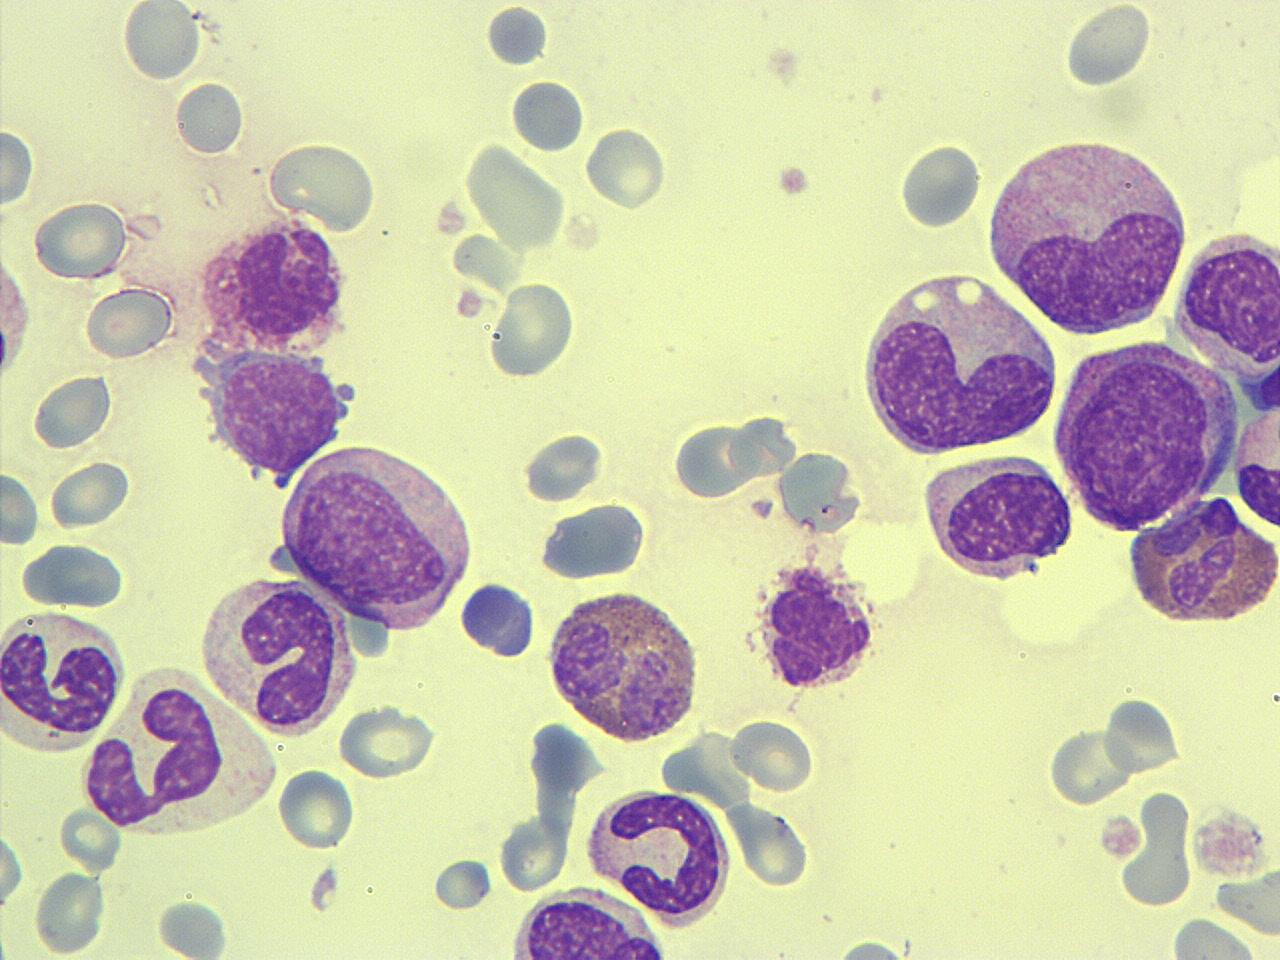Platelets: (458, 578, 541, 659)
RBC: (0, 0, 577, 342), (462, 136, 571, 254), (264, 135, 378, 231), (486, 279, 578, 382), (30, 197, 132, 282), (334, 700, 440, 781), (1061, 1, 1153, 94), (896, 136, 982, 232), (774, 448, 864, 538), (16, 541, 133, 610), (725, 799, 814, 888), (584, 122, 668, 213), (82, 283, 174, 364), (1045, 724, 1133, 808), (728, 714, 818, 795), (516, 429, 610, 505), (119, 0, 204, 83), (670, 418, 756, 500), (276, 764, 356, 852), (31, 867, 109, 956), (1232, 396, 1280, 536), (31, 370, 114, 452), (1101, 694, 1179, 778), (46, 458, 134, 530), (497, 810, 570, 892), (174, 79, 245, 158), (1119, 840, 1193, 908), (2, 233, 32, 392), (1166, 915, 1260, 959), (431, 854, 496, 914), (1, 115, 37, 216), (0, 466, 41, 547), (0, 818, 25, 925)
WBC: (178, 210, 376, 485), (980, 128, 1192, 340), (271, 436, 480, 641), (854, 266, 1060, 458), (1048, 332, 1240, 536), (78, 668, 276, 844), (195, 572, 362, 740), (542, 584, 706, 746), (917, 448, 1079, 586), (1121, 488, 1280, 627), (582, 783, 734, 928), (1171, 223, 1280, 416), (0, 602, 132, 756), (754, 556, 882, 694), (502, 882, 672, 960), (536, 502, 650, 584), (775, 446, 863, 539), (458, 575, 538, 663), (1232, 397, 1280, 535)
